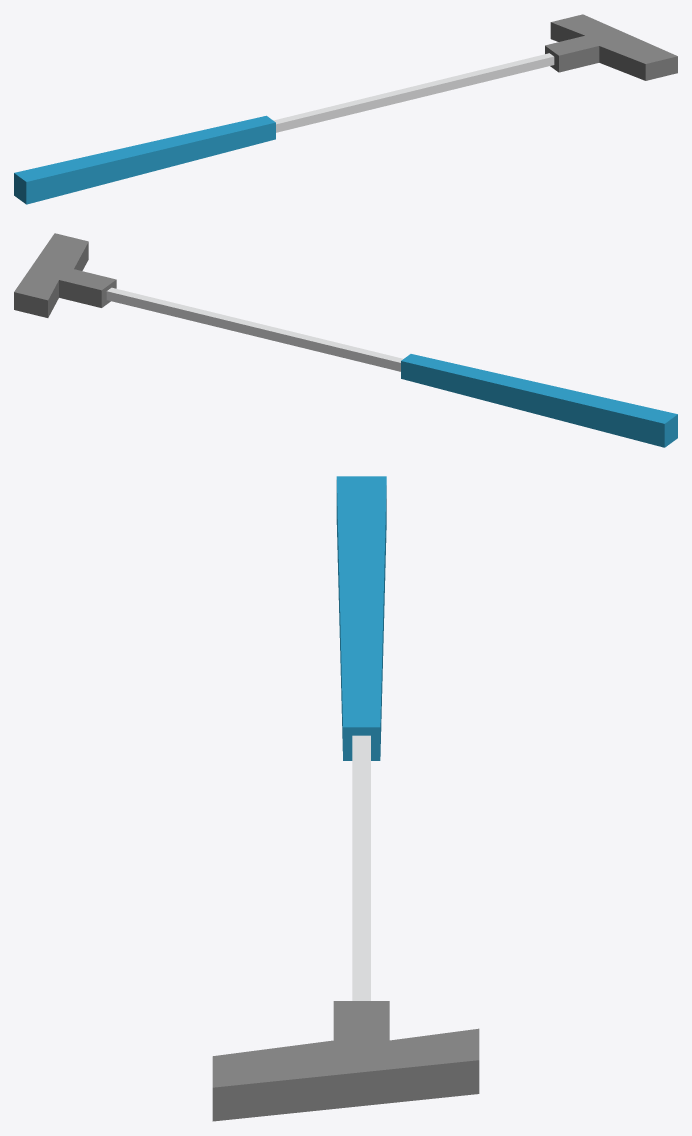
The model's file is Club_blue_01.glb.
3 views of the same model, one above another, from view 1: azimuth 30°, elevation 25°; view 2: azimuth 150°, elevation 25°; view 3: azimuth 270°, elevation 25° (orthographic). The views are drawn at different scales.
Visible parts, largest first — view 1: Mesh1 Club_blue Model; view 2: Mesh1 Club_blue Model; view 3: Mesh1 Club_blue Model.
Boxes of the visible parts, x1=… form: Mesh1 Club_blue Model: x1=14, y1=14, x2=677, y2=204; Mesh1 Club_blue Model: x1=14, y1=233, x2=677, y2=447; Mesh1 Club_blue Model: x1=212, y1=476, x2=479, y2=1121.
Size of the model in its own units: 2.75 by 0.0959 by 0.5124.
